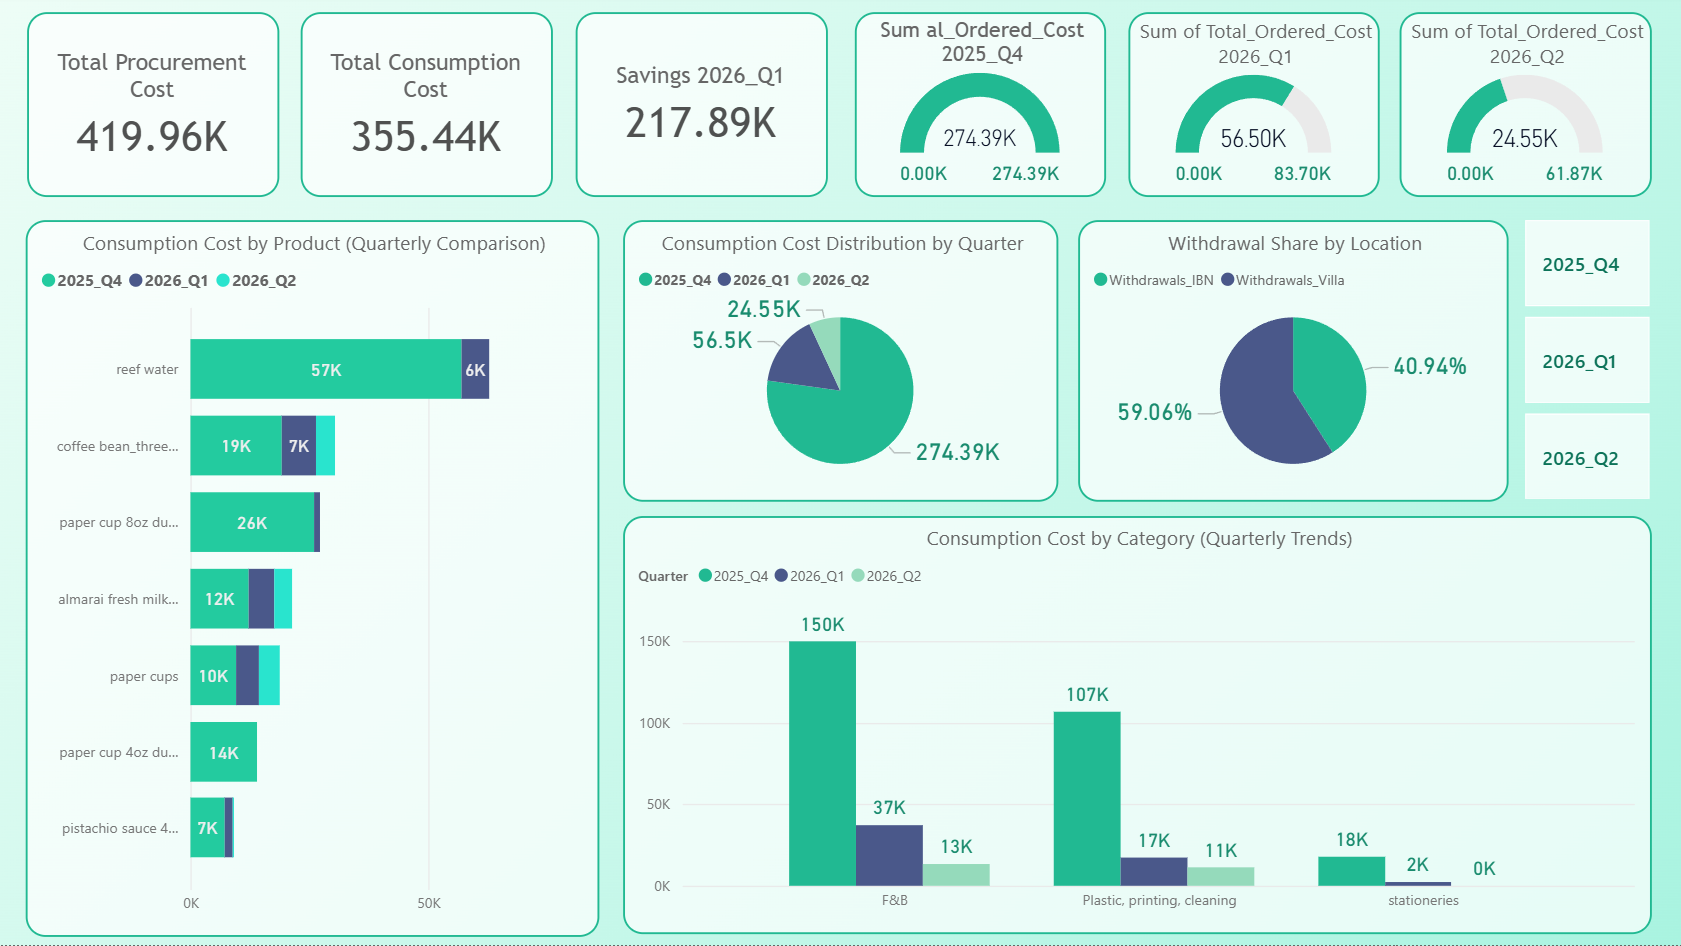

The dashboard page shown, as its layout file describes it:
{"tool":"powerbi","page":{"name":"All Quarters","canvas":[1280,720],"ordinal":0},"visuals":[{"type":"clusteredColumnChart","title":"Consumption Cost by Category (Quarterly Trends)","fields":{"Category":["All Periods.Category"],"Y":["Sum(All Periods.Total_Consumption_Cost)"],"Series":["All Periods.Quarter"]},"box":[474.1,394.7,777.8,316.8],"z":1000},{"type":"barChart","title":"Consumption Cost by Product (Quarterly Comparison)","fields":{"Category":["All Periods.Product_Name"],"Y":["Sum(All Periods.Total_Consumption_Cost)"],"Series":["All Periods.Quarter"]},"box":[23.2,170.9,433.5,542.1],"z":2000},{"type":"pieChart","title":"Consumption Cost Distribution by Quarter","fields":{"Category":["All Periods.Quarter"],"Y":["Sum(All Periods.Total_Consumption_Cost)"]},"box":[474.6,170.9,329,213],"z":3000},{"type":"gauge","title":"Sum al_Ordered_Cost 2025_Q4","fields":{"MaxValue":["Sum(All Periods.Total_Ordered_Cost)"],"Y":["Sum(All Periods.Total_Consumption_Cost)"]},"box":[649.5,14,190,140],"z":4000},{"type":"gauge","title":"Sum of Total_Ordered_Cost 2026_Q1","fields":{"Y":["Sum(All Periods.Total_Consumption_Cost)"],"MaxValue":["Sum(All Periods.Total_Ordered_Cost)"]},"box":[856.2,14,190,140],"z":5000},{"type":"gauge","title":"Sum of Total_Ordered_Cost 2026_Q2","fields":{"Y":["Sum(All Periods.Total_Consumption_Cost)"],"MaxValue":["Sum(All Periods.Total_Ordered_Cost)"]},"box":[1061.5,14,190.4,140],"z":6000},{"type":"pieChart","title":"Withdrawal Share by Location","fields":{"Y":["Sum(All Periods.Withdrawals_IBN)","Sum(All Periods.Withdrawals_Villa)"]},"box":[818.4,170.9,325.9,213],"z":7000},{"type":"cardVisual","fields":{"Data":["_Calculations.Total Cost Of Consumed Stock"]},"box":[231,14,190.4,140],"z":8000},{"type":"cardVisual","fields":{"Data":["_Calculations.Total Cost Of Orderd Stock"]},"box":[24.1,14,190.4,140],"z":9000},{"type":"cardVisual","fields":{"Data":["_Calculations.Savings 2026_Q1"]},"box":[439.2,14,190.4,140],"z":10000},{"type":"advancedSlicerVisual","fields":{"Values":["All Periods.Quarter"]},"box":[1156.9,170.9,94.9,213],"z":11000}]}

Visuals, with their boxes in screenshot pixels (x1, y1, x2, y2), scaled from the page's 1280x720 canvas onto the 1681x946 screenshot:
"Consumption Cost by Category (Quarterly Trends)" clusteredColumnChart: x1=623 y1=519 x2=1644 y2=935
"Consumption Cost by Product (Quarterly Comparison)" barChart: x1=30 y1=225 x2=600 y2=937
"Consumption Cost Distribution by Quarter" pieChart: x1=623 y1=225 x2=1055 y2=504
"Sum al_Ordered_Cost 2025_Q4" gauge: x1=853 y1=18 x2=1102 y2=202
"Sum of Total_Ordered_Cost 2026_Q1" gauge: x1=1124 y1=18 x2=1374 y2=202
"Sum of Total_Ordered_Cost 2026_Q2" gauge: x1=1394 y1=18 x2=1644 y2=202
"Withdrawal Share by Location" pieChart: x1=1075 y1=225 x2=1503 y2=504
cardVisual - _Calculations.Total Cost Of Consumed Stock: x1=303 y1=18 x2=553 y2=202
cardVisual - _Calculations.Total Cost Of Orderd Stock: x1=32 y1=18 x2=282 y2=202
cardVisual - _Calculations.Savings 2026_Q1: x1=577 y1=18 x2=827 y2=202
advancedSlicerVisual - All Periods.Quarter: x1=1519 y1=225 x2=1644 y2=504
